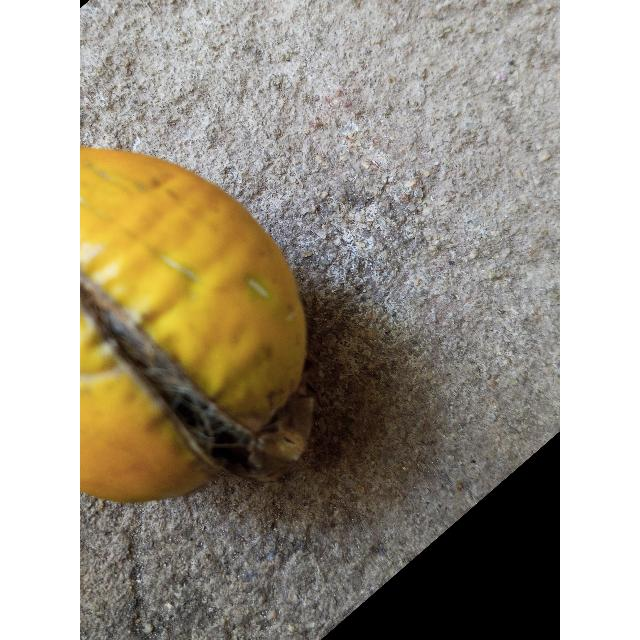damaged: (80, 147, 314, 502)
